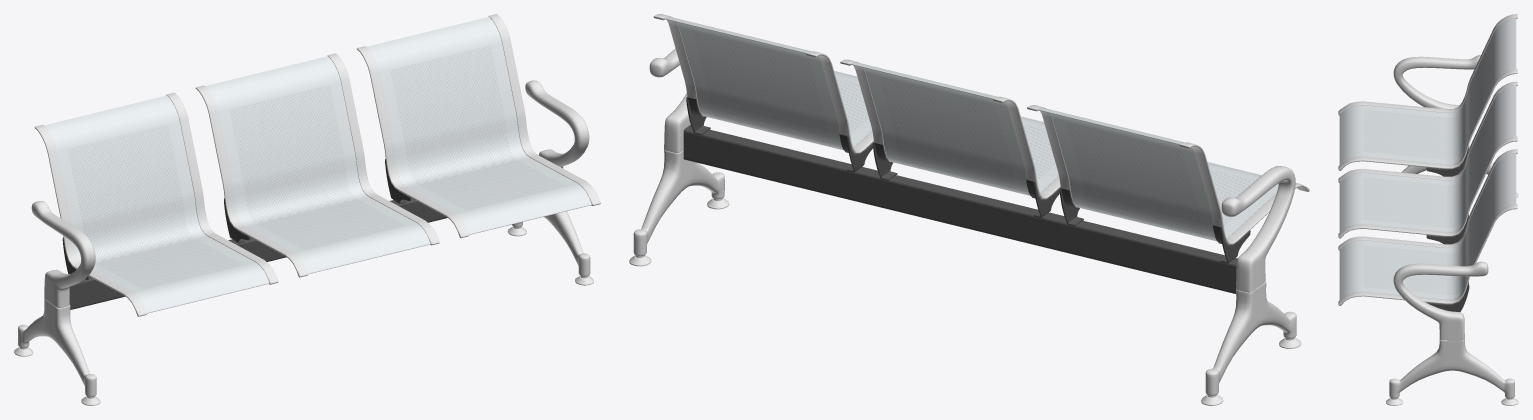
File: Waiting Chair.fbx
The picture shows the model from 3 angles, left to right: view 1: azimuth 30°, elevation 25°; view 2: azimuth 150°, elevation 25°; view 3: azimuth 270°, elevation 25°; orthographic projection. The views are drawn at different scales.
Visible parts, largest first — view 1: Waiting Bench (3 Seats); view 2: Waiting Bench (3 Seats); view 3: Waiting Bench (3 Seats).
Boxes of the visible parts, <box> form: Waiting Bench (3 Seats): <box>14,14,600,405</box>; Waiting Bench (3 Seats): <box>629,14,1309,405</box>; Waiting Bench (3 Seats): <box>1338,14,1518,405</box>.
Bounding box in the file's own units: 231 × 94.75 × 82.15.
Materials: 1 (1 with a texture image).
